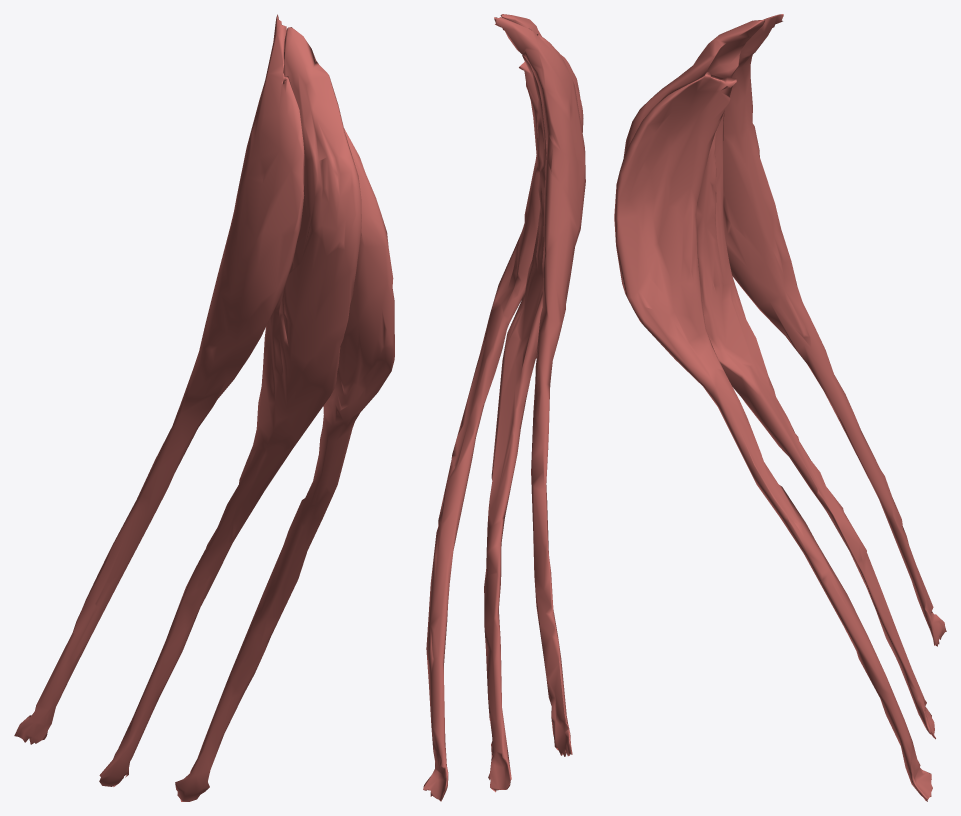
3 renders of one model, left to right at view 1: azimuth 30°, elevation 25°; view 2: azimuth 150°, elevation 25°; view 3: azimuth 270°, elevation 25°, orthographic. The views are drawn at different scales.
Parts seen in each view (by area): view 1: 右侧趾短伸肌; view 2: 右侧趾短伸肌; view 3: 右侧趾短伸肌.
Part boxes in pixels (<box>): 右侧趾短伸肌: <box>14,14,394,801</box>; 右侧趾短伸肌: <box>423,14,585,801</box>; 右侧趾短伸肌: <box>614,14,946,801</box>.
Bounding box in the file's own units: 0.0631 × 0.227 × 0.0865.
